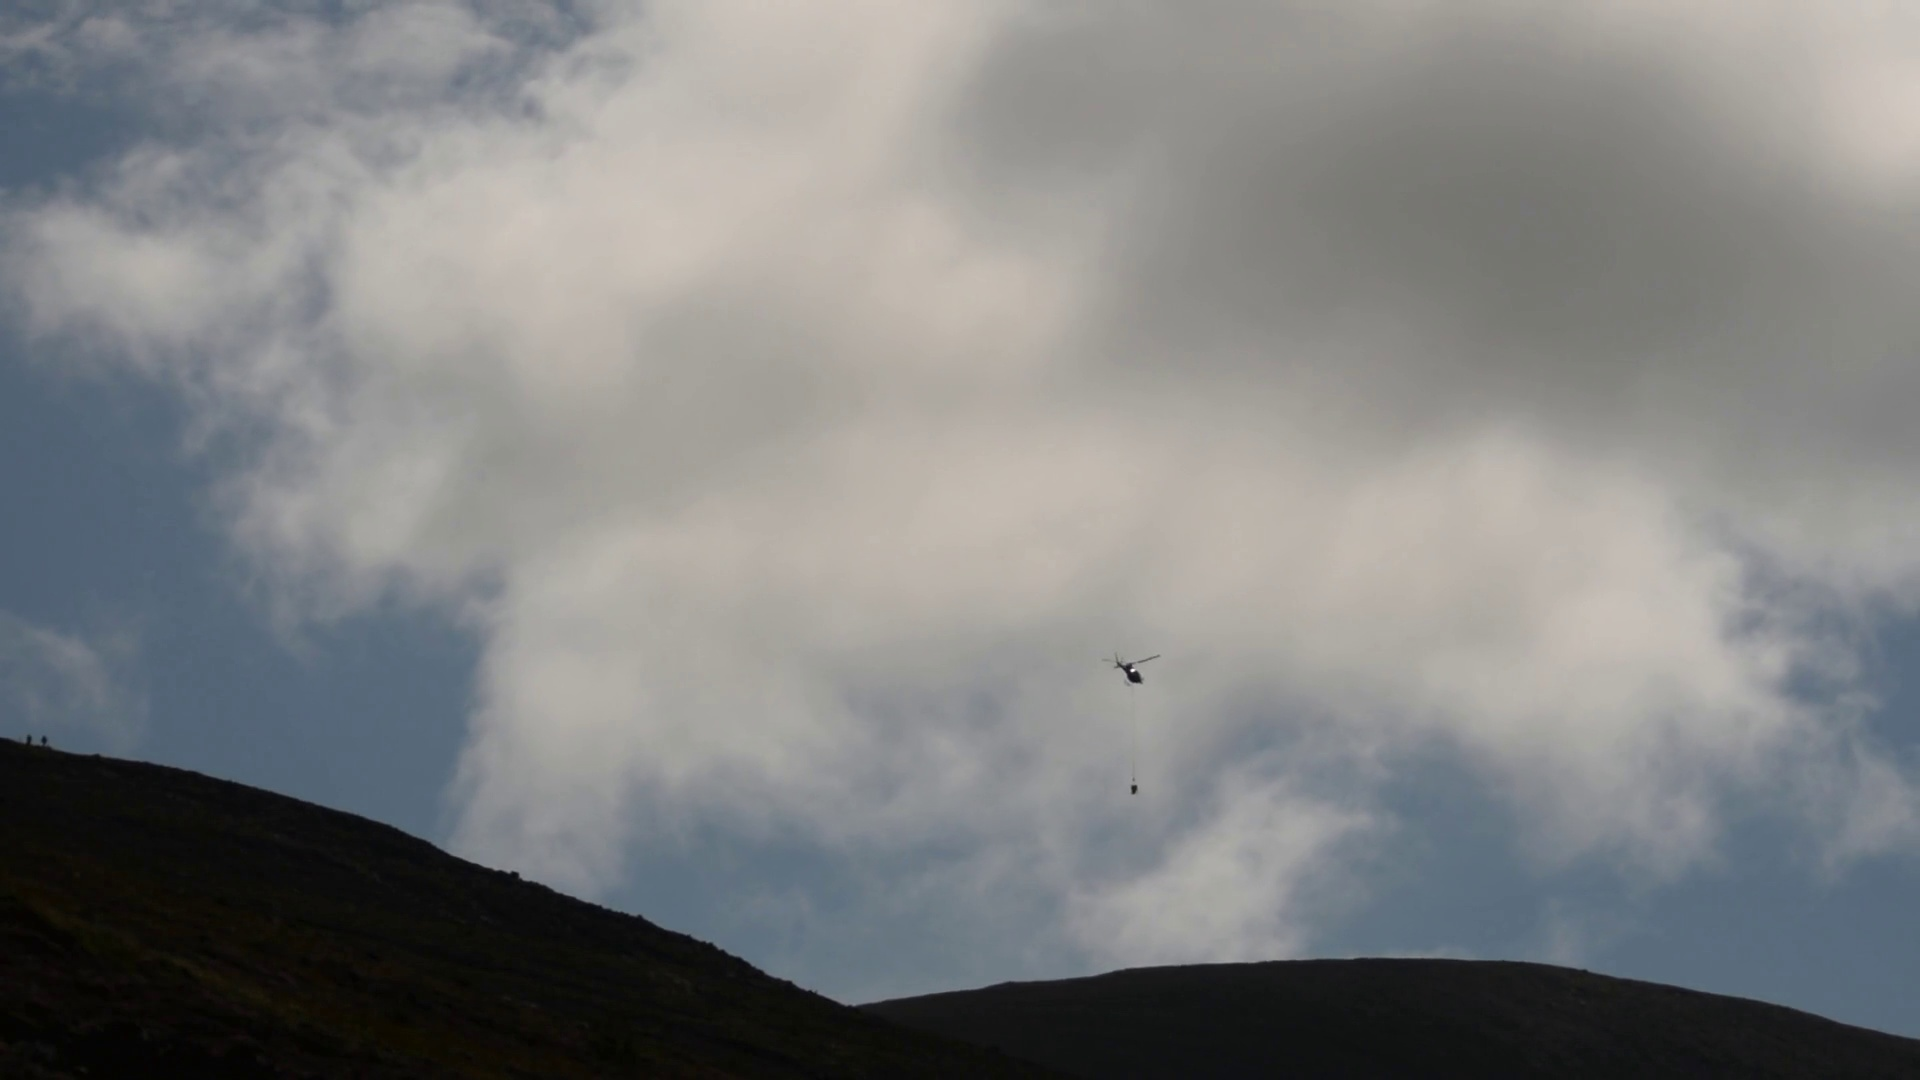heli: (1106, 651, 1163, 684)
